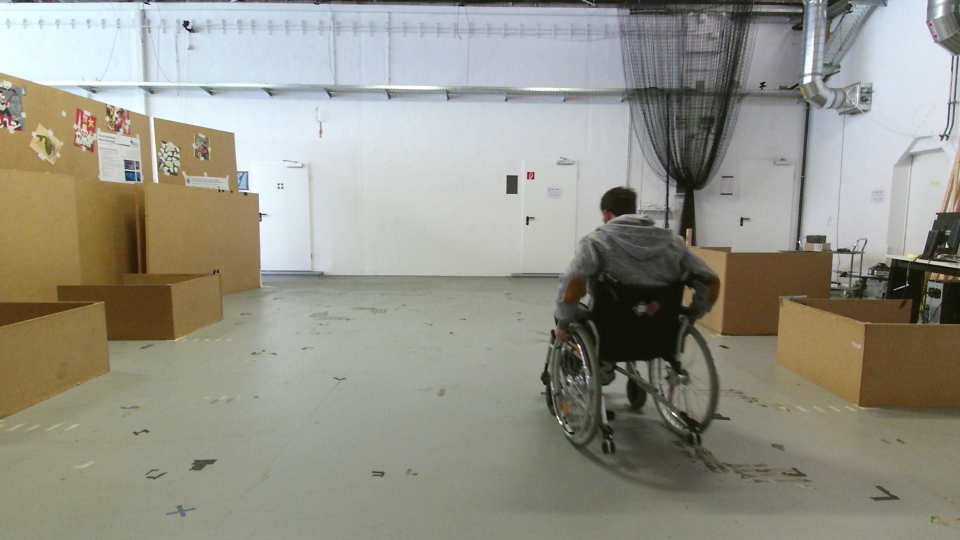wheelchair: (533, 178, 731, 466)
